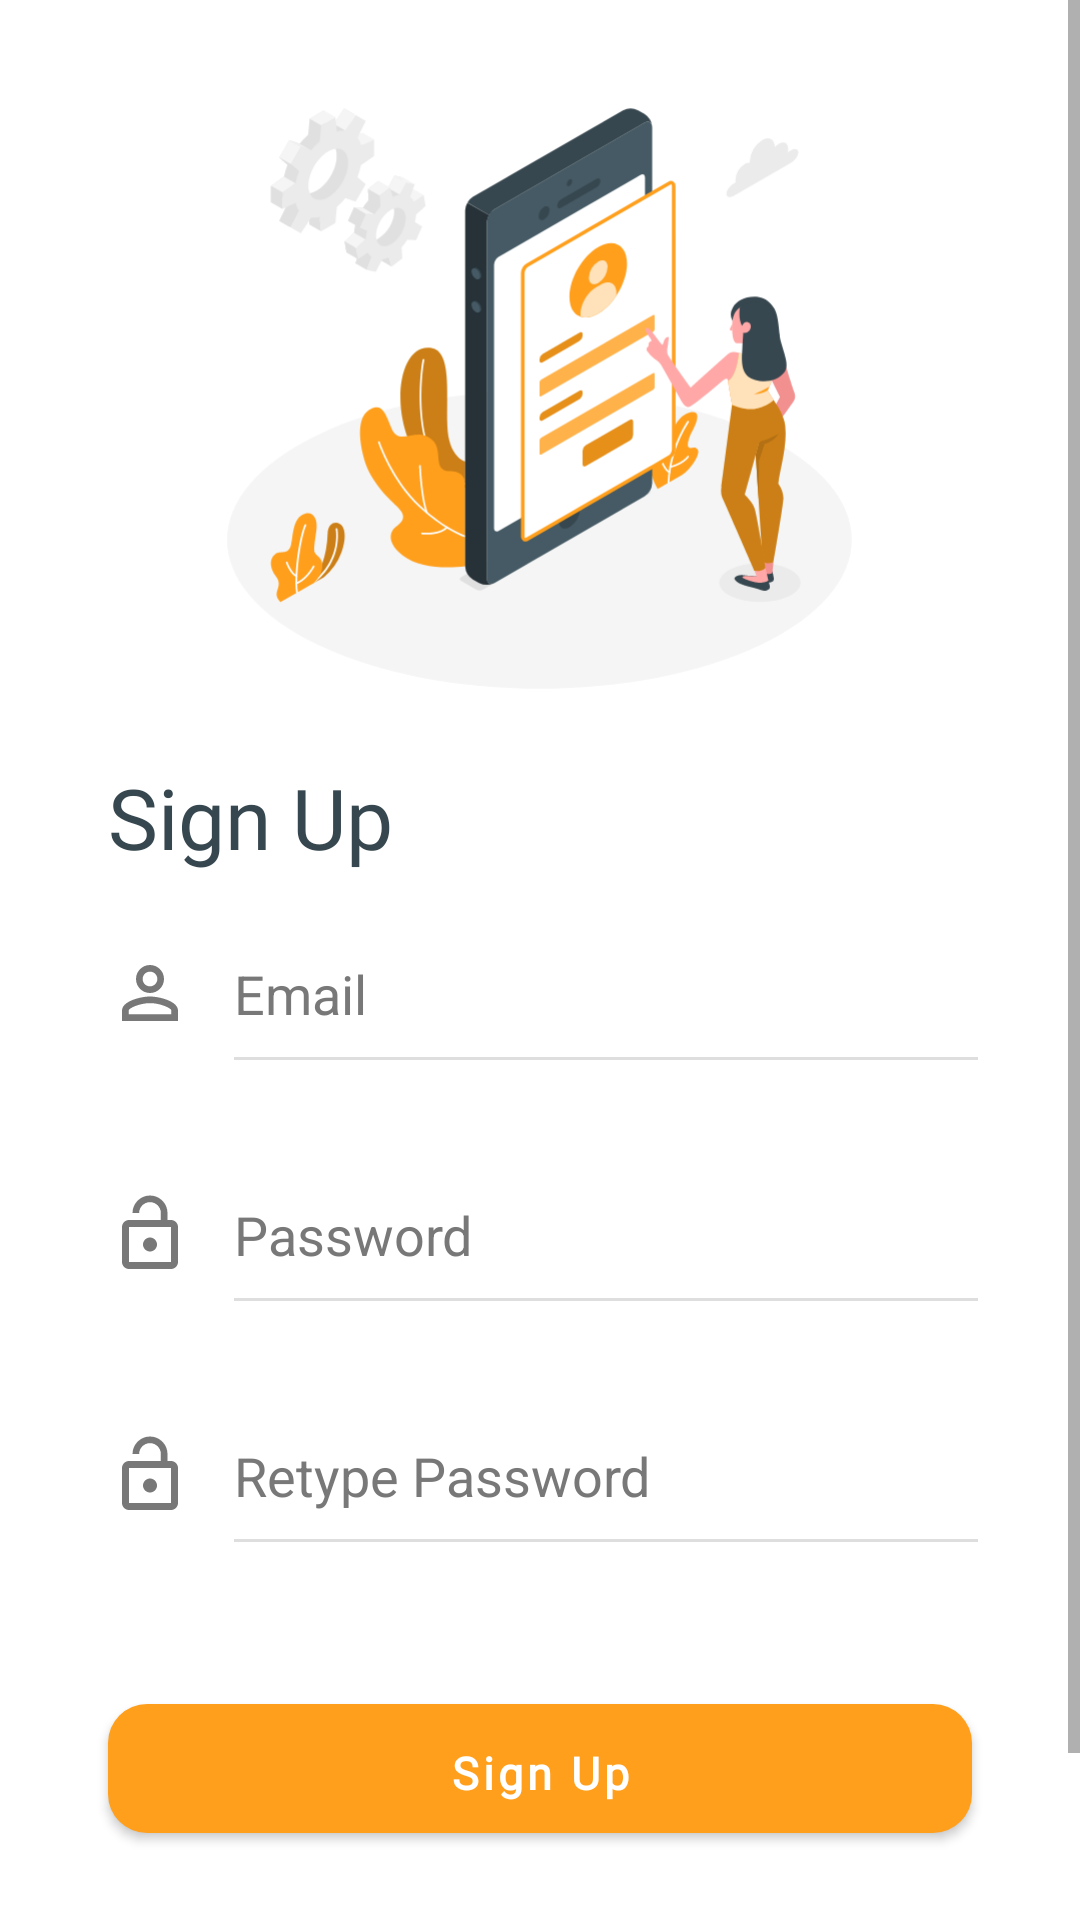

Screen size 1080px×1920px. Icon name, then its box in pixels as (x1, y1, x2, y2):
lock open: (122, 1195, 178, 1269), (122, 1436, 178, 1510)
person: (122, 965, 178, 1021)
